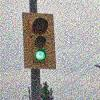traffic lights: (21, 11, 56, 70)
